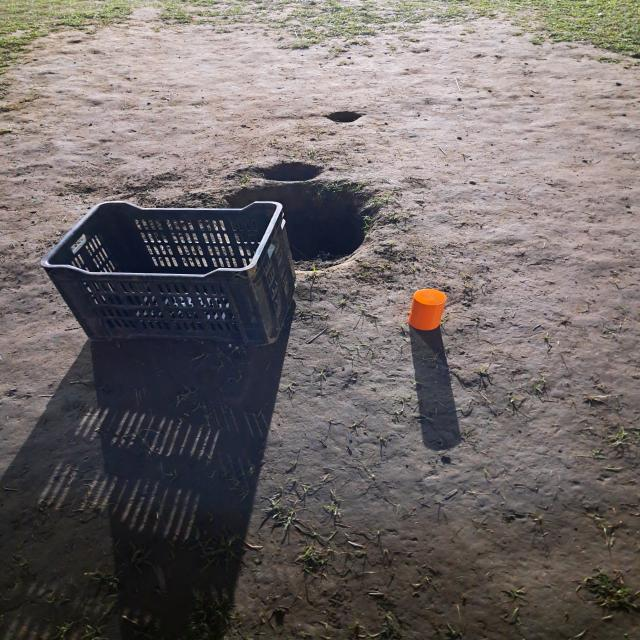Cylinder: (407, 288, 447, 331)
